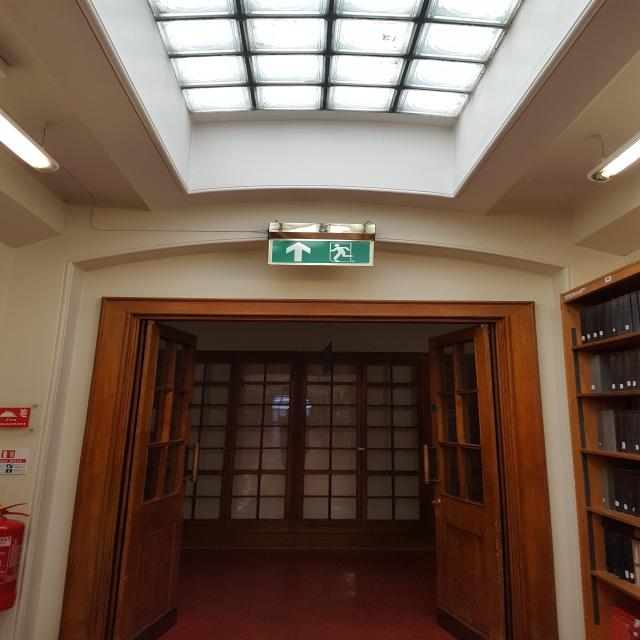fire_extinguisher: (0, 498, 33, 617)
